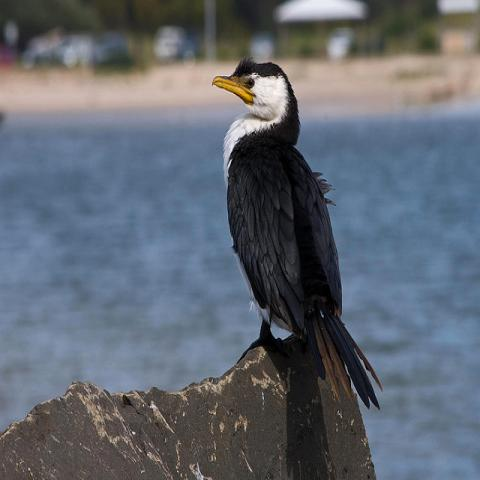car: (21, 32, 88, 69), (90, 38, 134, 74), (153, 25, 192, 60)
